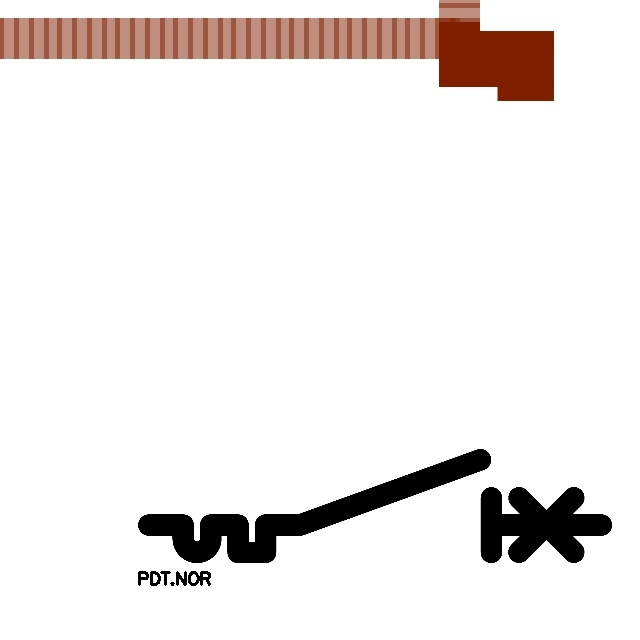interruptor_termomagnetico: (137, 448, 613, 564)
